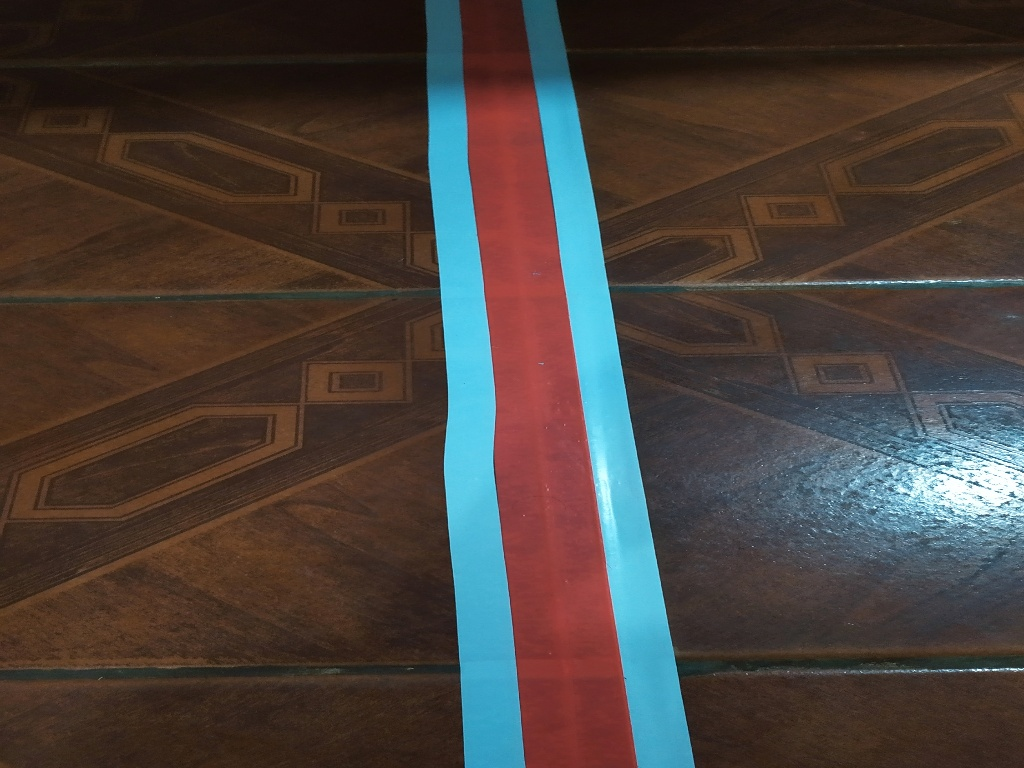reta: (415, 9, 691, 768)
